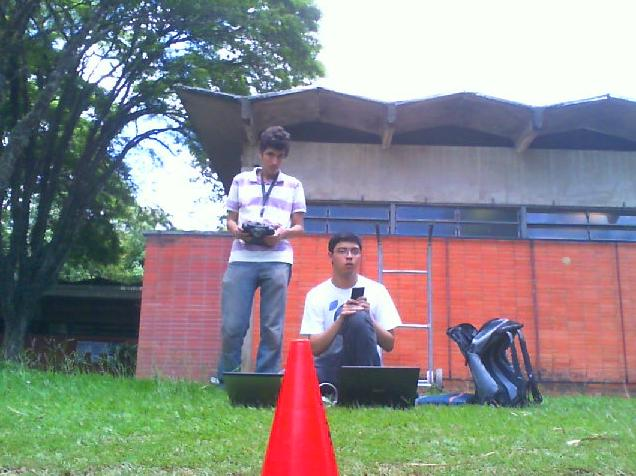0 cone: (263, 338, 341, 476)
